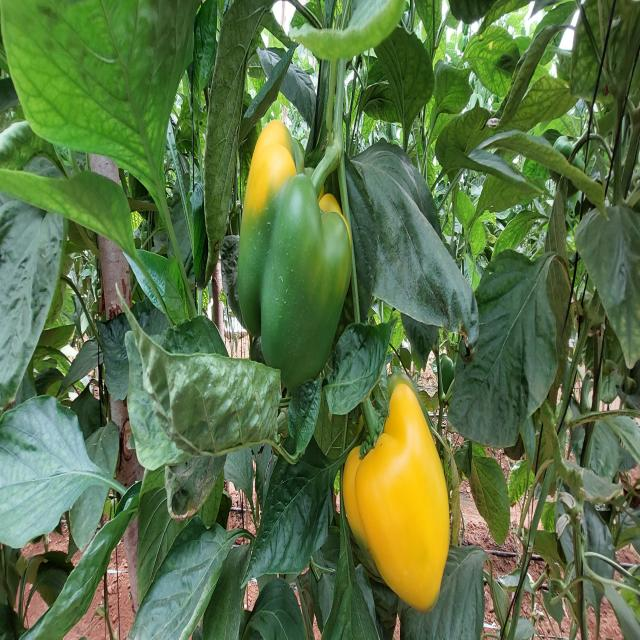GreenishYellow--Can-be-Harvested: (232, 75, 366, 388), (346, 348, 474, 630)
